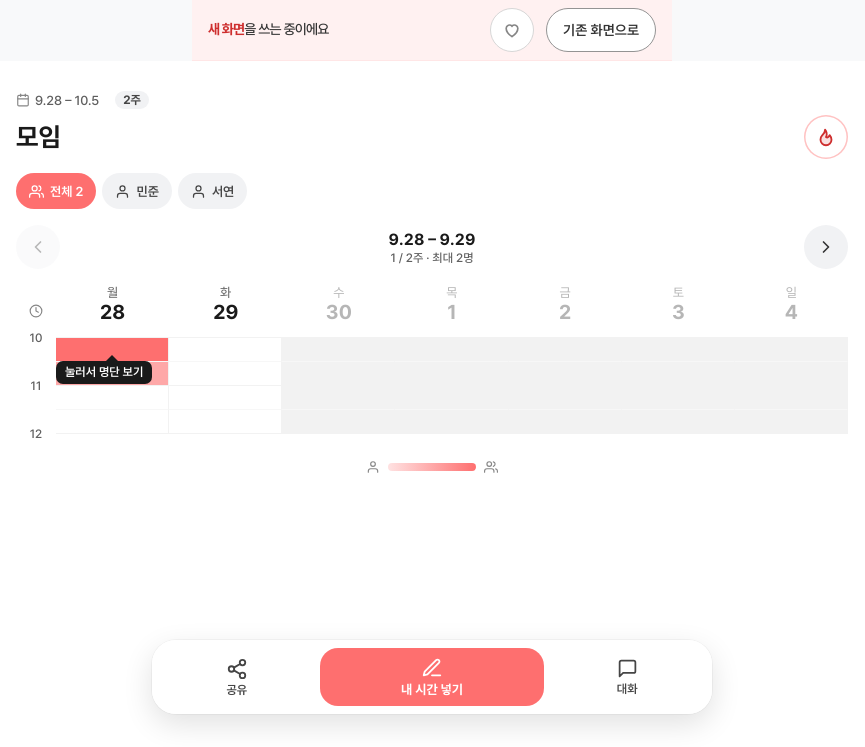
Test: 보기 › 주 넘기기는 공유 상태의 주를 바꾸고 계측한다
Check: the heading "모임" is shown, box left=16, top=122, right=61, bottom=152
Click the button named "다음 주": click(826, 247) left=804, top=225, right=848, bottom=269
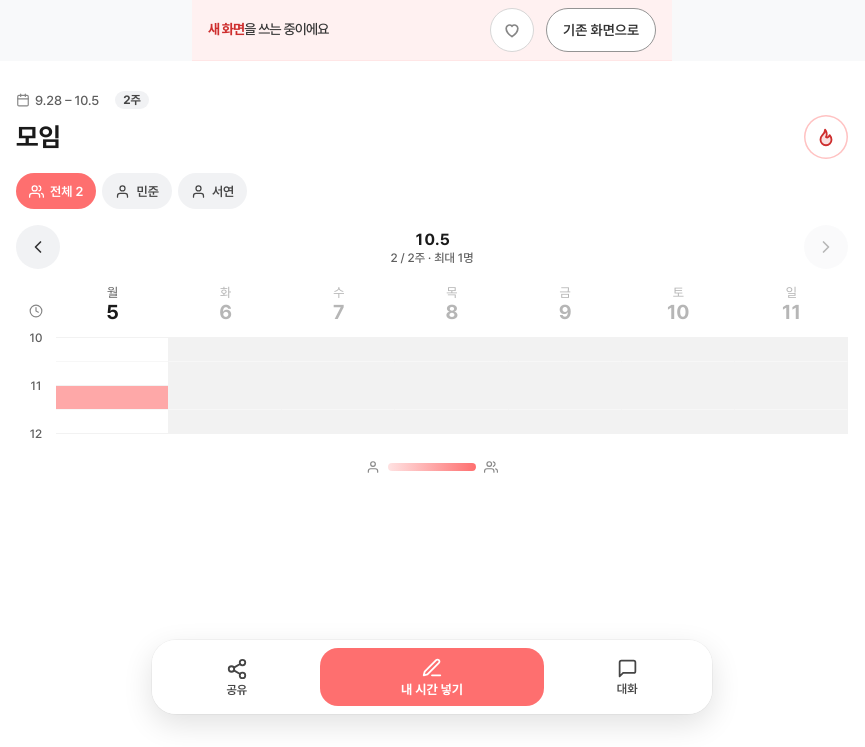
Check: the text "2 / 2주 · 최대 1명" is shown, box left=390, top=250, right=474, bottom=264
